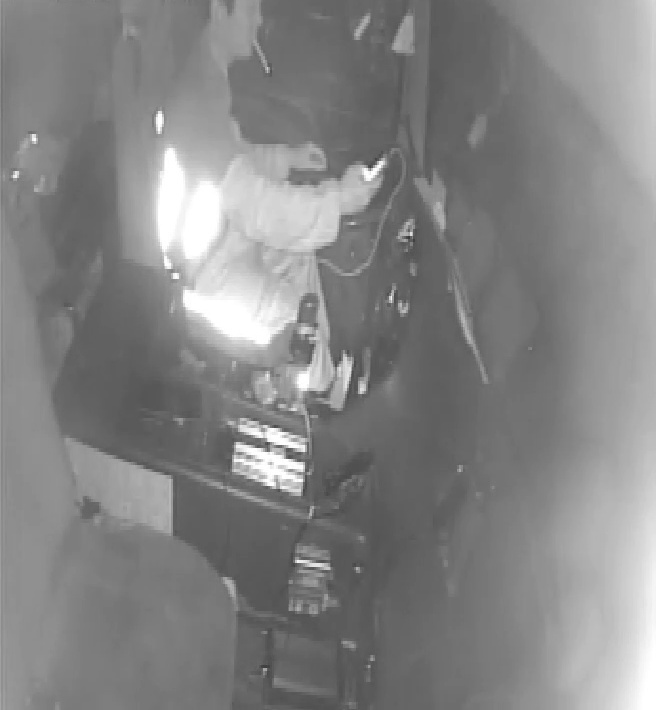cellphone: (346, 156, 388, 185)
